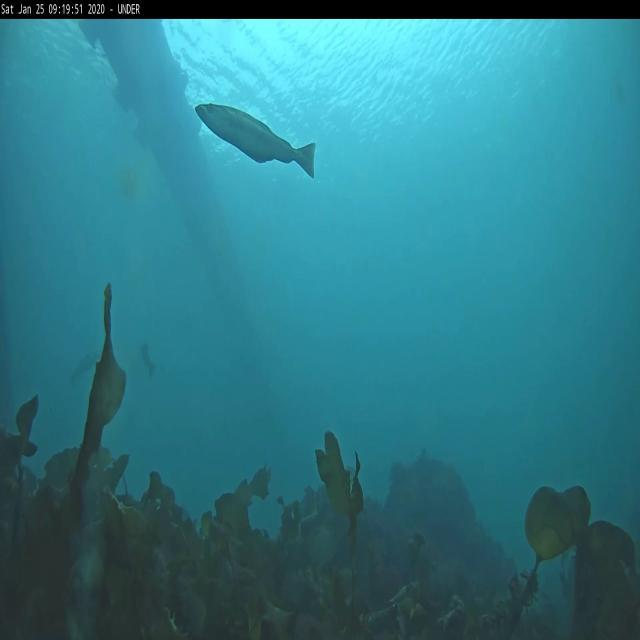fish: (196, 101, 319, 182), (72, 342, 100, 385), (138, 338, 158, 378)
